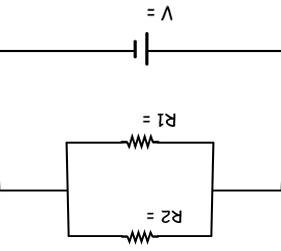resistor: (119, 221, 168, 246), (114, 126, 161, 148)
